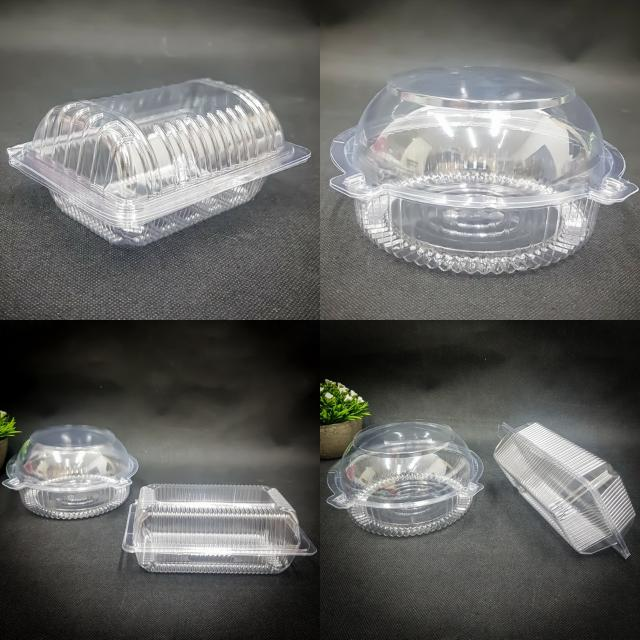Single-Use-Plastic: (330, 68, 638, 274), (8, 79, 310, 245), (494, 422, 635, 558), (328, 421, 482, 536), (122, 484, 316, 574), (2, 425, 138, 519)
